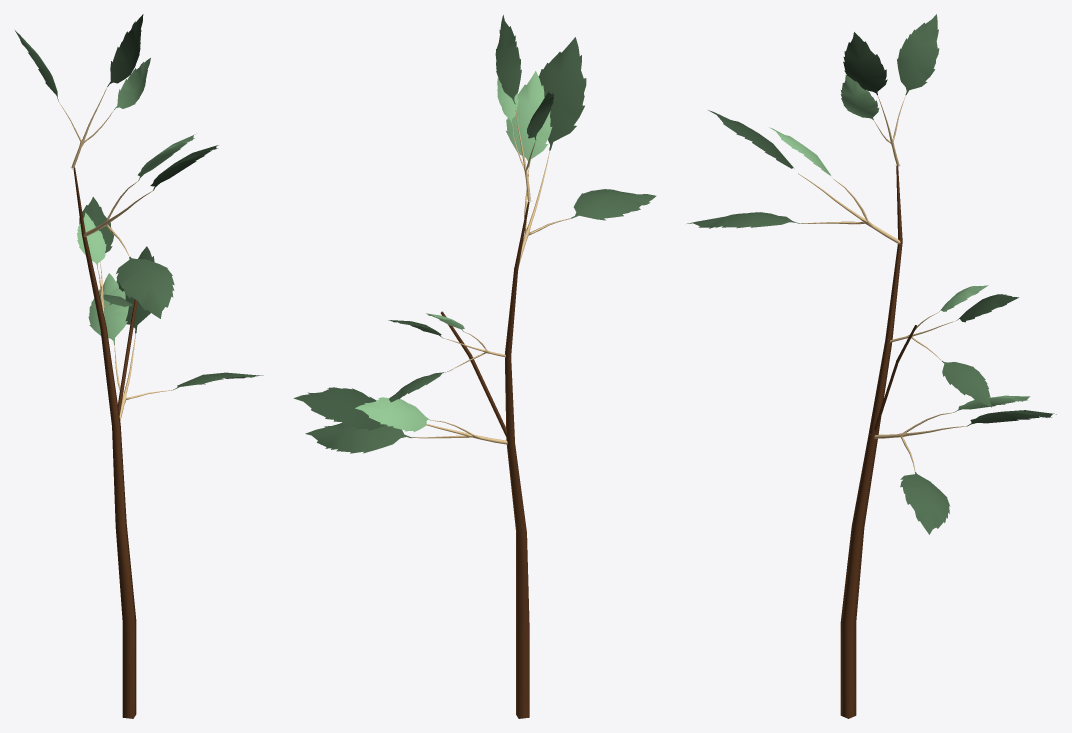
The model's file is Tree5.fbx.
The picture shows the model from 3 angles, left to right: view 1: azimuth 30°, elevation 25°; view 2: azimuth 150°, elevation 25°; view 3: azimuth 270°, elevation 25°; orthographic projection.
Visible parts, largest first — view 1: Árbol.002, Hojas|tree|Dupli|, Hojas|tree|Dupli|1, Hojas|tree|Dupli|2, Hojas|tree|Dupli|3; view 2: Hojas|tree|Dupli|, Hojas|tree|Dupli|2, Árbol.002, Hojas|tree|Dupli|1, Hojas|tree|Dupli|3; view 3: Árbol.002, Hojas|tree|Dupli|1, Hojas|tree|Dupli|2, Hojas|tree|Dupli|, Hojas|tree|Dupli|3.
Part boxes in pixels (<box>): Árbol.002: <box>73,167,137,718</box>; Hojas|tree|Dupli|: <box>83,134,218,318</box>; Hojas|tree|Dupli|1: <box>15,14,150,168</box>; Hojas|tree|Dupli|2: <box>88,246,263,420</box>; Hojas|tree|Dupli|3: <box>77,197,133,315</box>; Hojas|tree|Dupli|: <box>506,37,656,265</box>; Hojas|tree|Dupli|2: <box>293,387,507,453</box>; Árbol.002: <box>440,202,529,718</box>; Hojas|tree|Dupli|1: <box>495,15,554,201</box>; Hojas|tree|Dupli|3: <box>388,313,505,402</box>; Árbol.002: <box>840,166,916,718</box>; Hojas|tree|Dupli|1: <box>840,14,939,166</box>; Hojas|tree|Dupli|2: <box>874,395,1056,534</box>; Hojas|tree|Dupli|: <box>687,110,900,244</box>; Hojas|tree|Dupli|3: <box>890,285,1018,407</box>.
Bounding box in the file's own units: 91.19 × 246 × 120.
